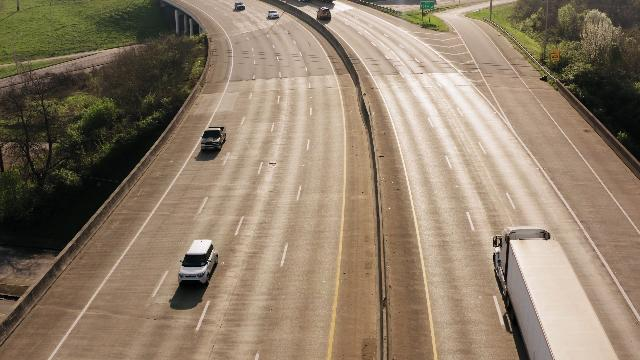car: (178, 239, 221, 293), (198, 126, 229, 156), (233, 2, 248, 12), (267, 12, 280, 21)
truck: (489, 226, 622, 360)
van: (316, 6, 333, 22)
